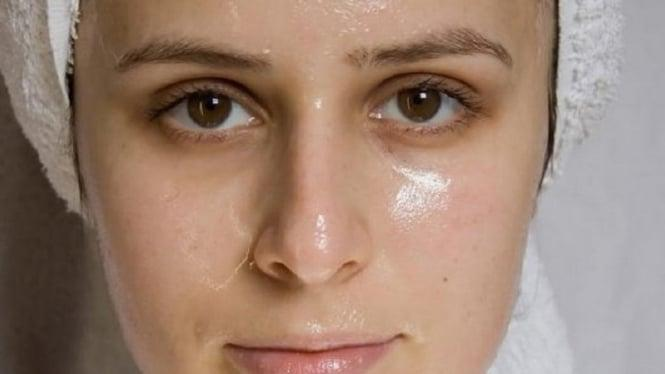Oily-Skin: (190, 199, 256, 294), (296, 0, 430, 35), (390, 161, 453, 235), (306, 313, 369, 337), (313, 212, 336, 257), (221, 0, 245, 42), (402, 319, 429, 345), (310, 92, 330, 115)
